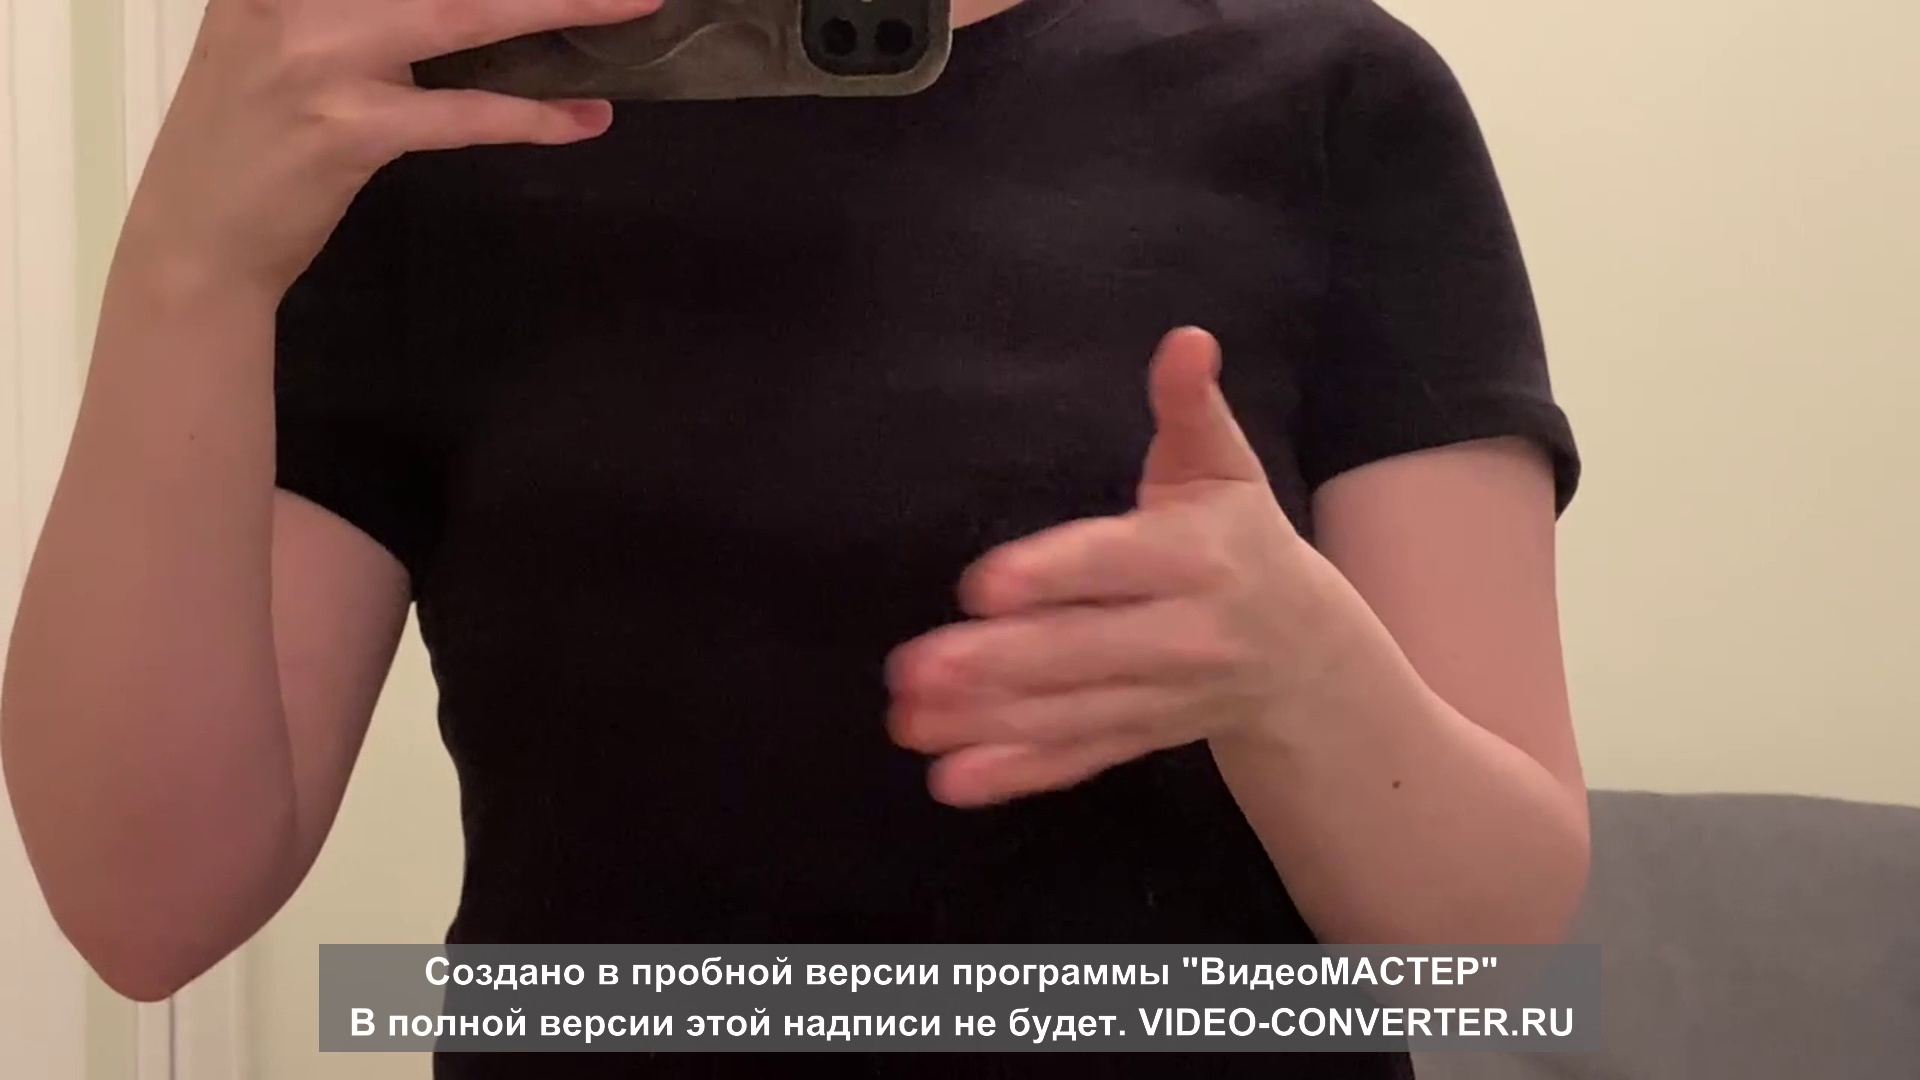Кисть: (884, 328, 1274, 811)
